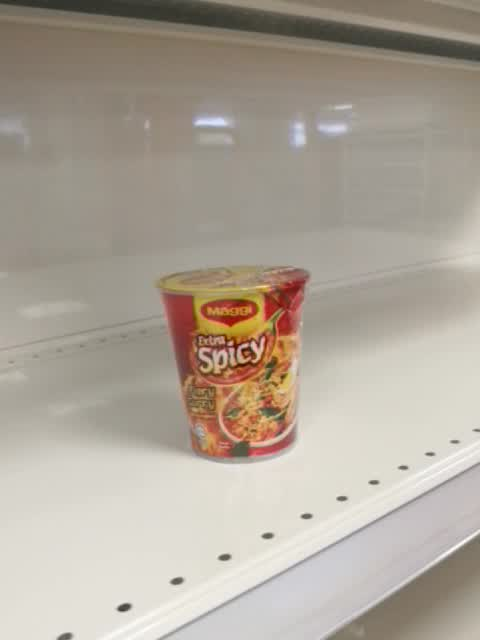maggi: (155, 263, 311, 465)
